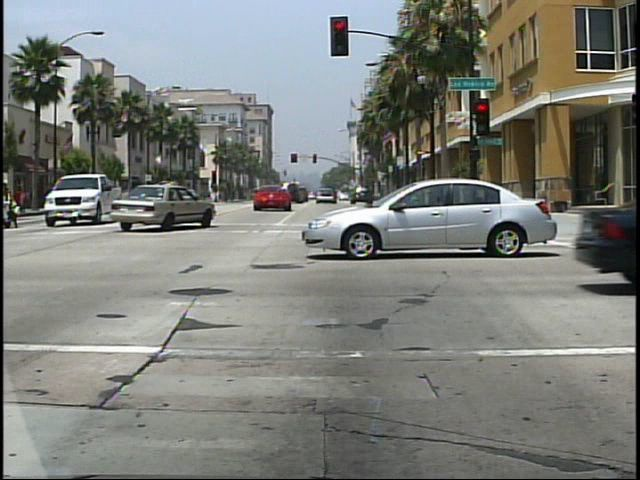person: (0, 177, 24, 230)
